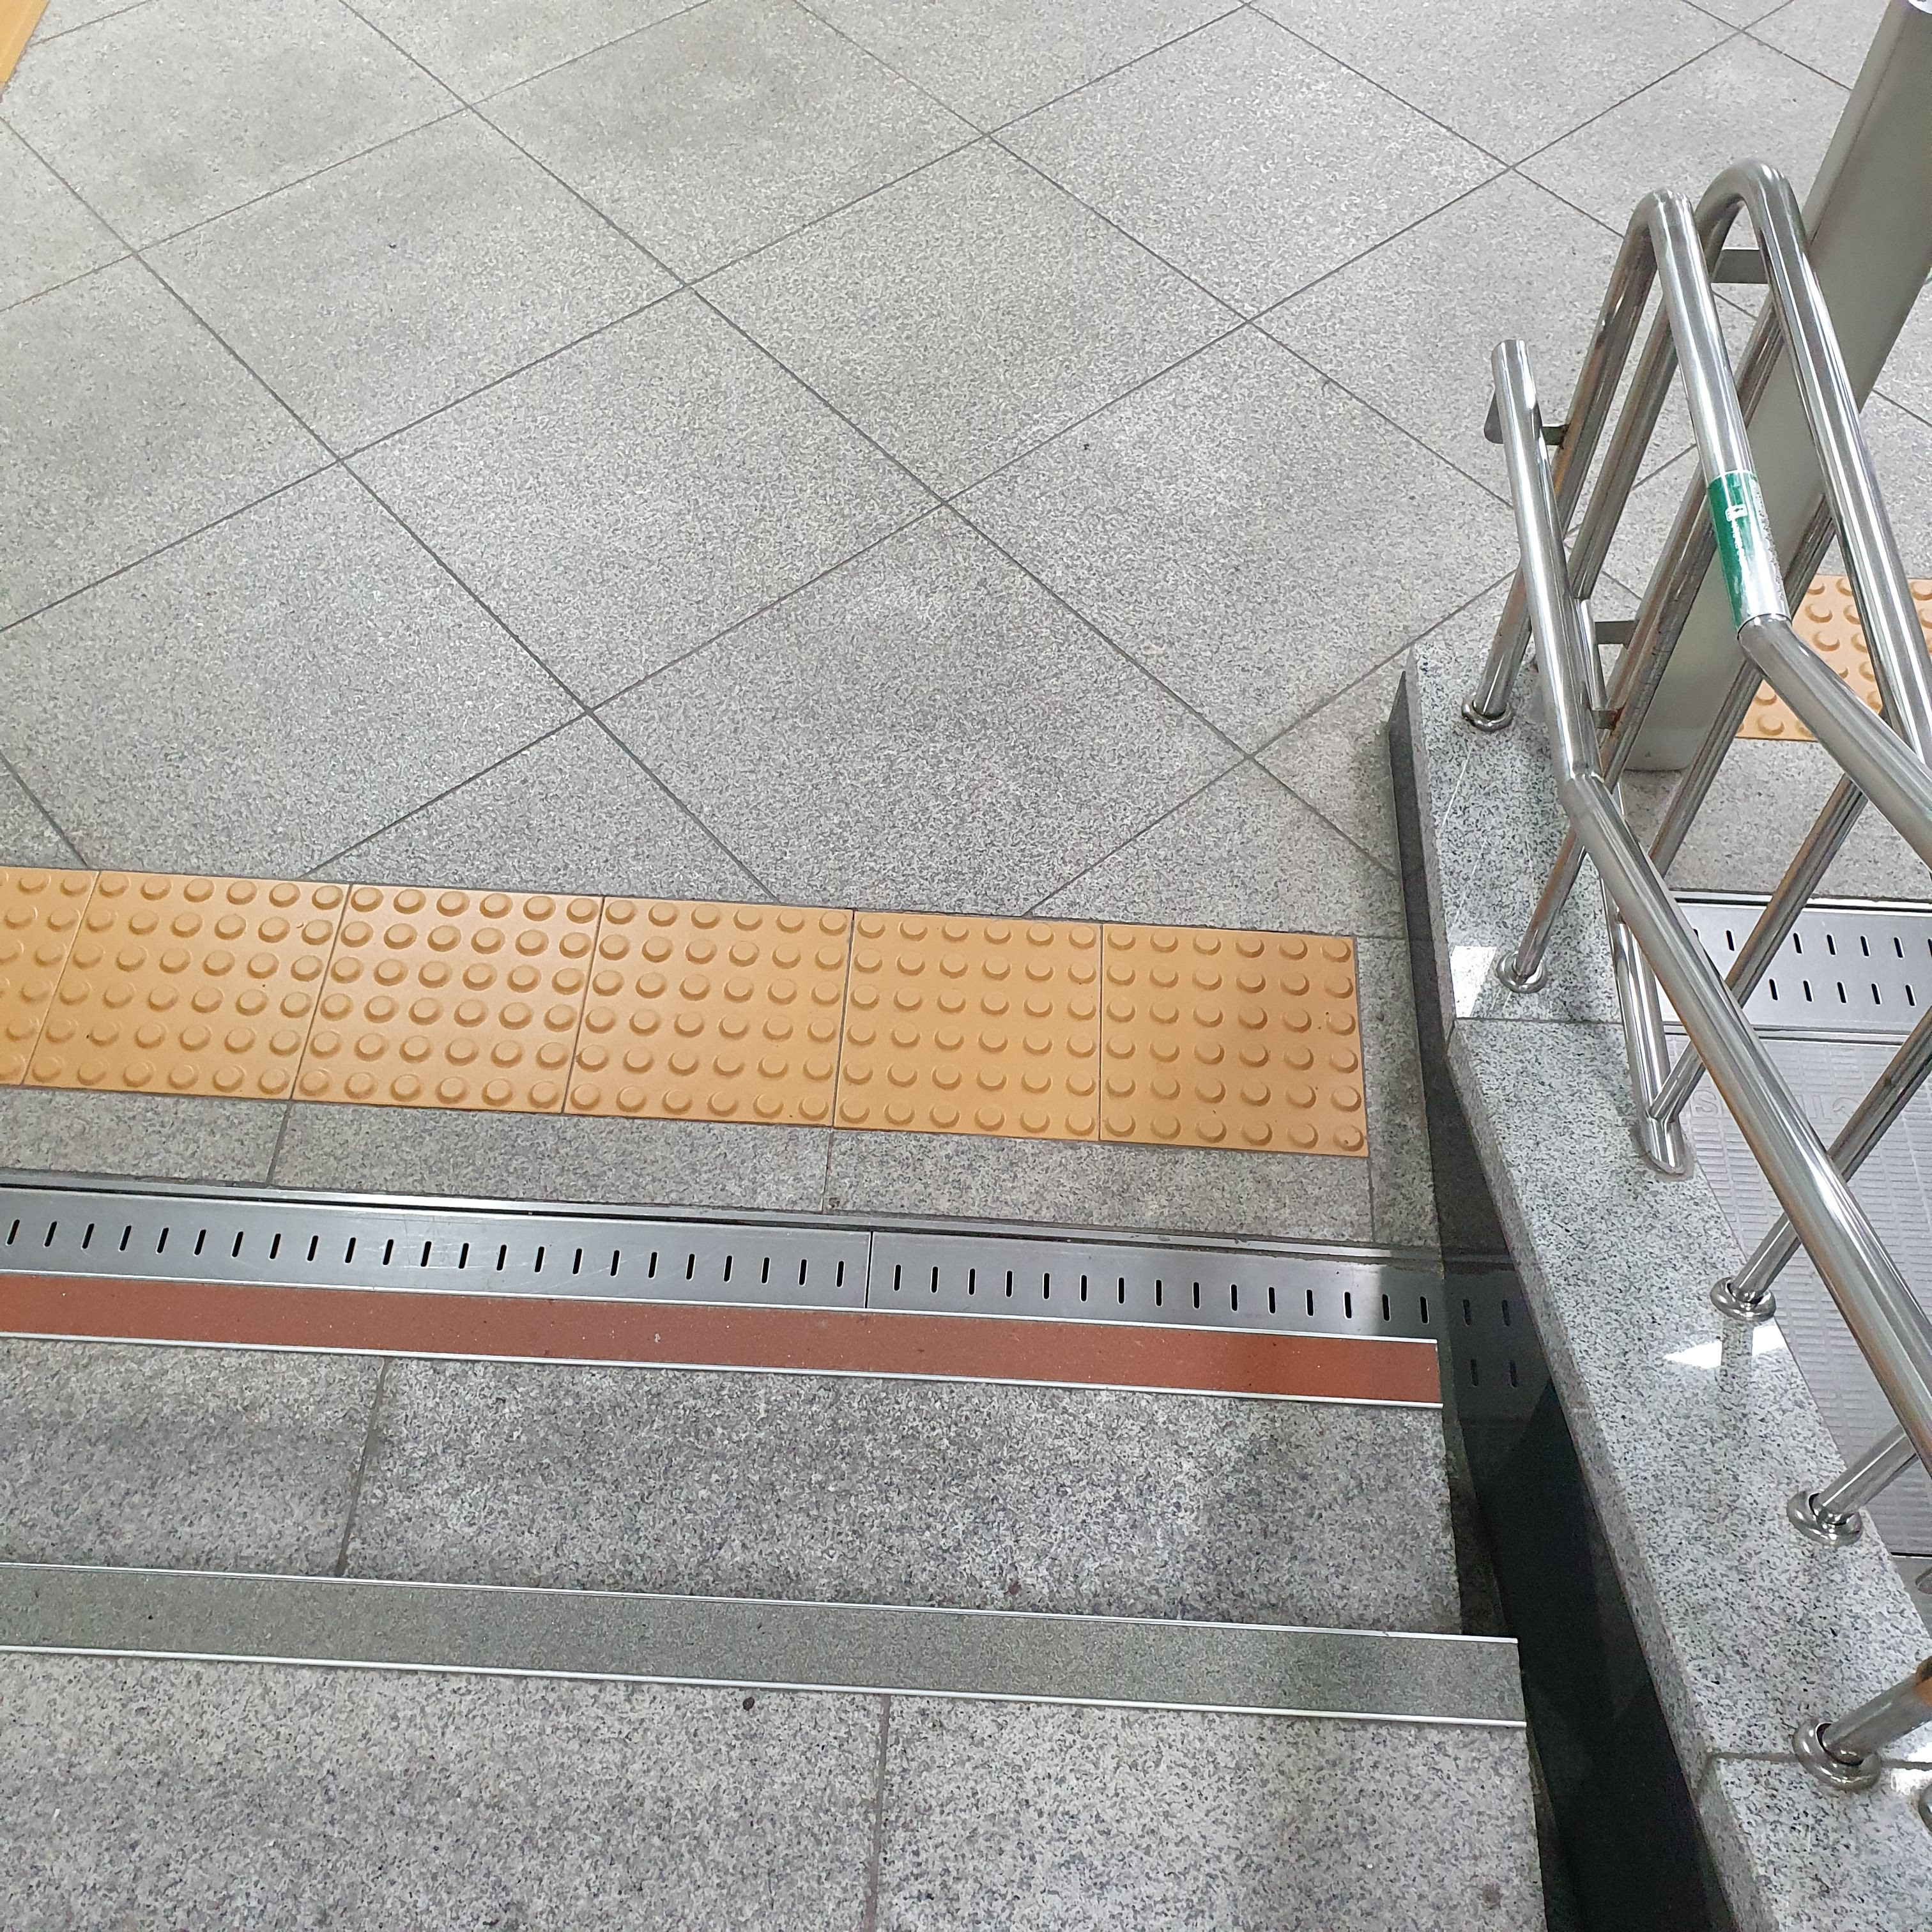warningBlock: (1086, 922, 1368, 1166), (853, 895, 1108, 1157), (23, 872, 322, 1085), (598, 902, 863, 1139), (338, 867, 575, 1113)
